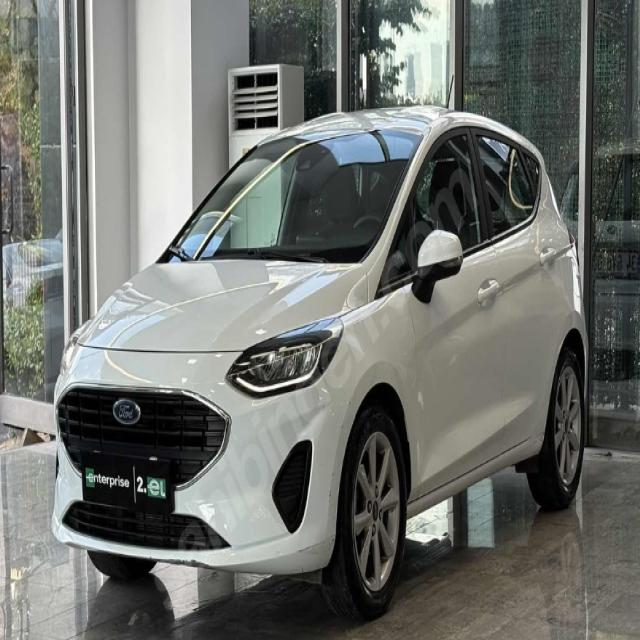ford: (111, 393, 143, 427)
